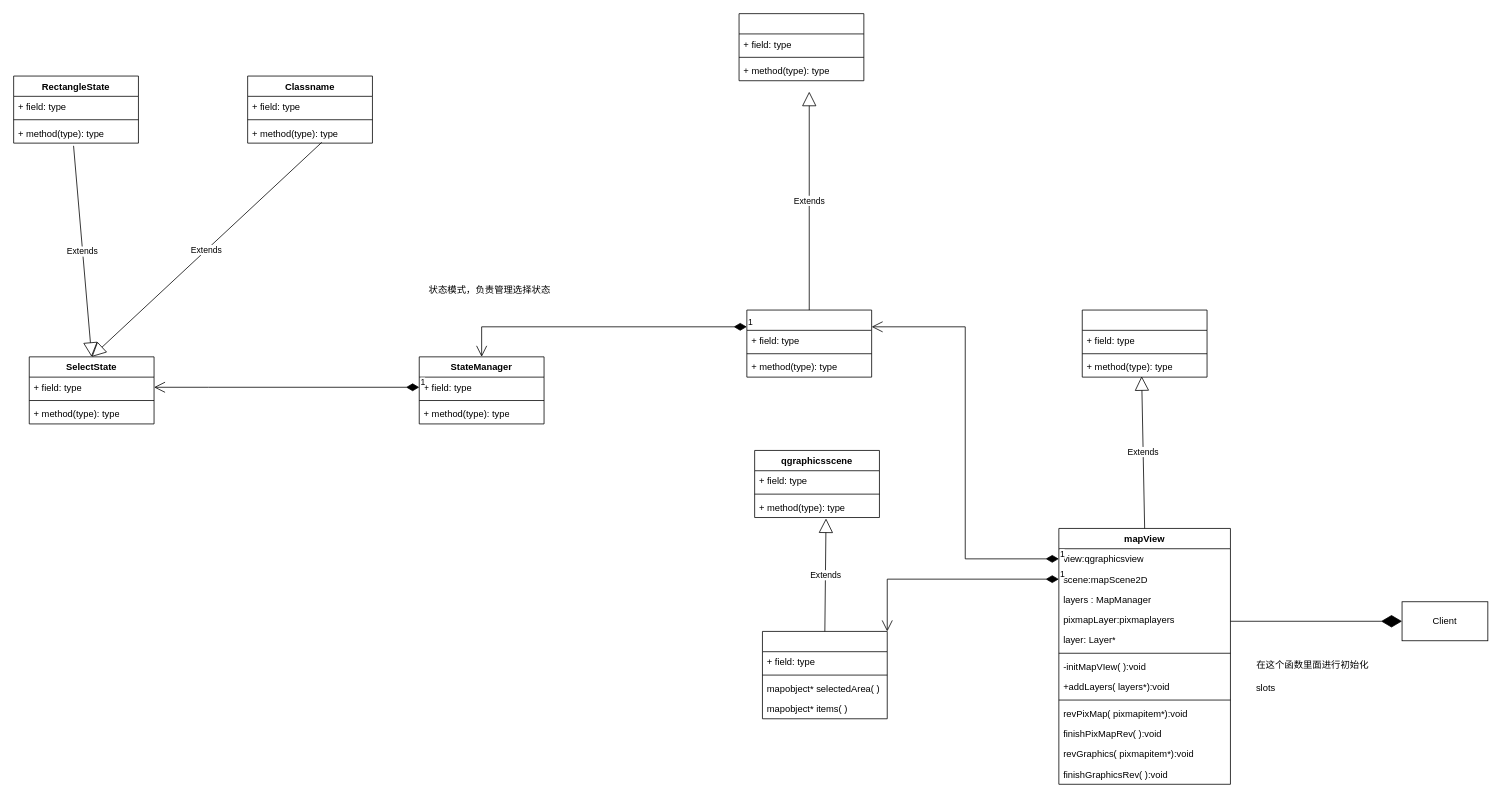
The diagram is 1502 pixels wide and 800 high, and some of its shapes have lost their labels. The shapes that lost their labels are listed below. From the top down, each one's box as (x1, y1, x2, y2) in pixels, then its label:
(738, 13, 864, 81): qgraphicsView
(746, 309, 872, 377): mapView2D
(1081, 309, 1207, 377): qwidget
(762, 631, 887, 719): mapScene2D
